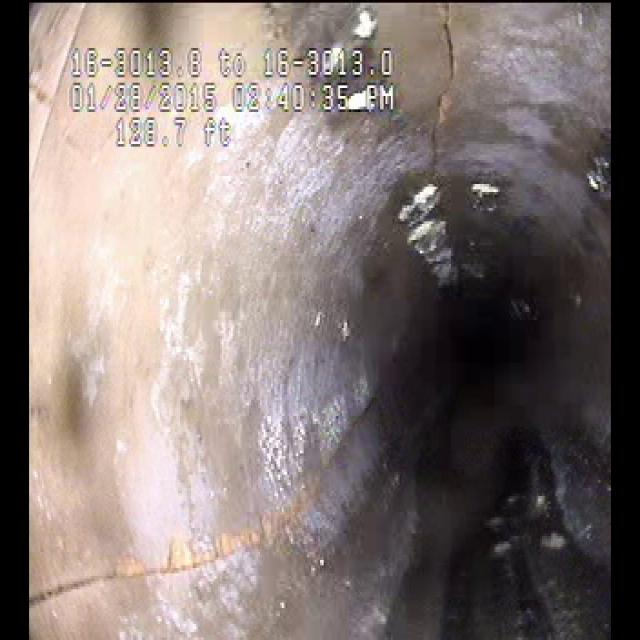Crack: (43, 421, 384, 640), (419, 24, 472, 165)
